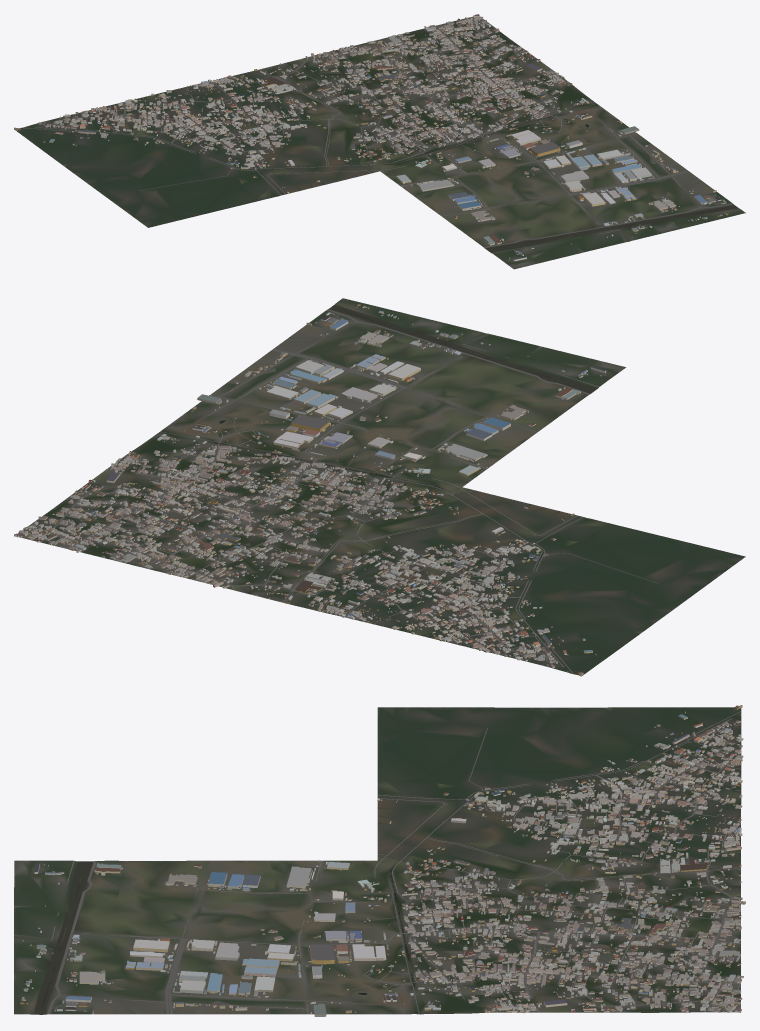
3 views of the same model, one above another, from view 1: azimuth 30°, elevation 25°; view 2: azimuth 150°, elevation 25°; view 3: azimuth 270°, elevation 25° (orthographic). The views are drawn at different scales.
Parts seen in each view (by area): view 1: ground, buildings, roads, water; view 2: ground, buildings, roads, water; view 3: ground, buildings, roads, water.
Part boxes in pixels (left/top/right/bottom): ground: left=14, top=17, right=745, bottom=269; buildings: left=14, top=14, right=728, bottom=261; roads: left=21, top=16, right=733, bottom=253; water: left=147, top=103, right=737, bottom=252; ground: left=16, top=298, right=745, bottom=675; buildings: left=14, top=304, right=606, bottom=676; roads: left=21, top=309, right=657, bottom=673; water: left=159, top=305, right=596, bottom=612; ground: left=14, top=707, right=741, bottom=1014; buildings: left=20, top=705, right=745, bottom=1016; roads: left=47, top=711, right=741, bottom=1014; water: left=34, top=768, right=630, bottom=1014.
Size of the model in its own units: 2823 by 26.2 by 2821.
